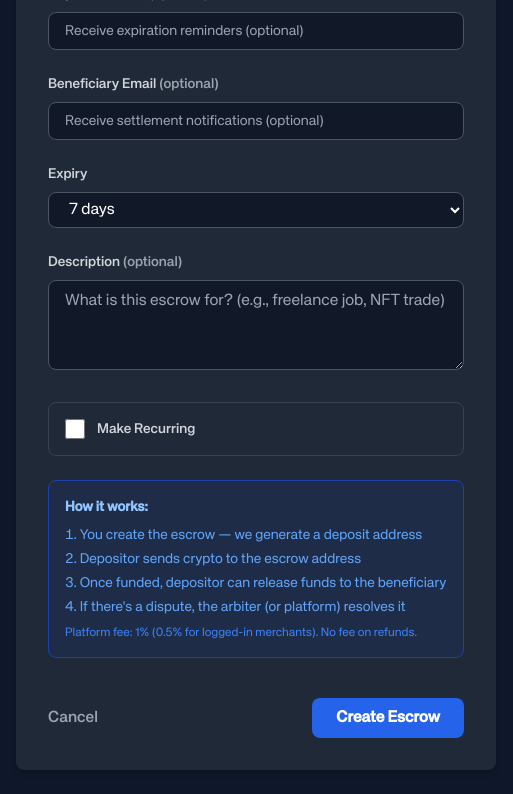
Test: CreateEscrowPage - Make Recurring › hides recurring fields when unchecked again
(page scrolled)
Step 1. Click the checkbox labelled "Make Recurring" → (75, 429), box [65,419,85,439]
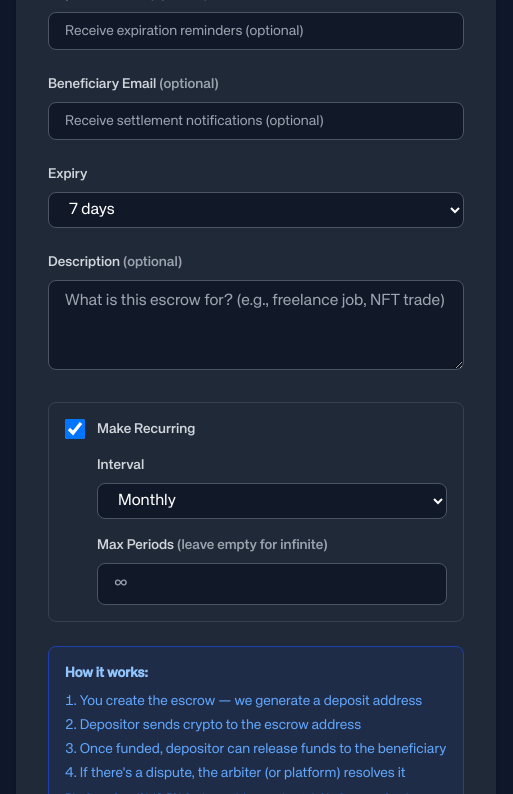
Expected: the dropdown labelled "Interval" is shown, [97,483,447,519]
Step 2. Click the checkbox labelled "Make Recurring" → (75, 429), box [65,419,85,439]
(page scrolled)
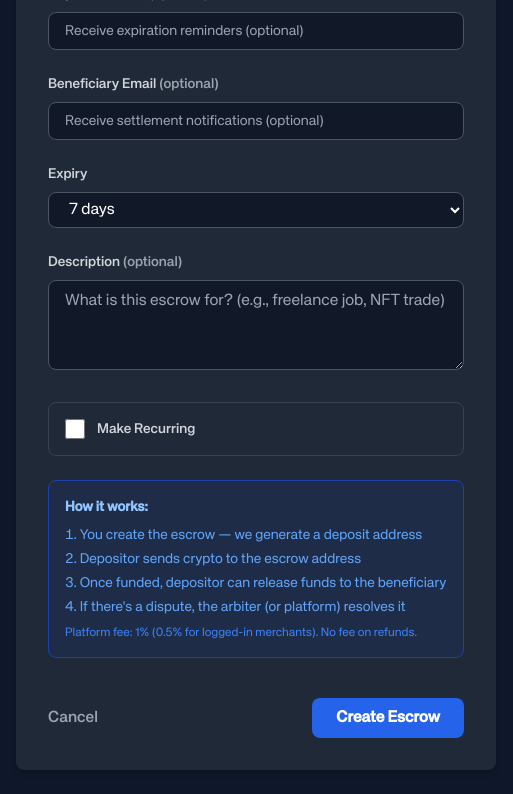
Expected: the label labelled "Interval" is gone
